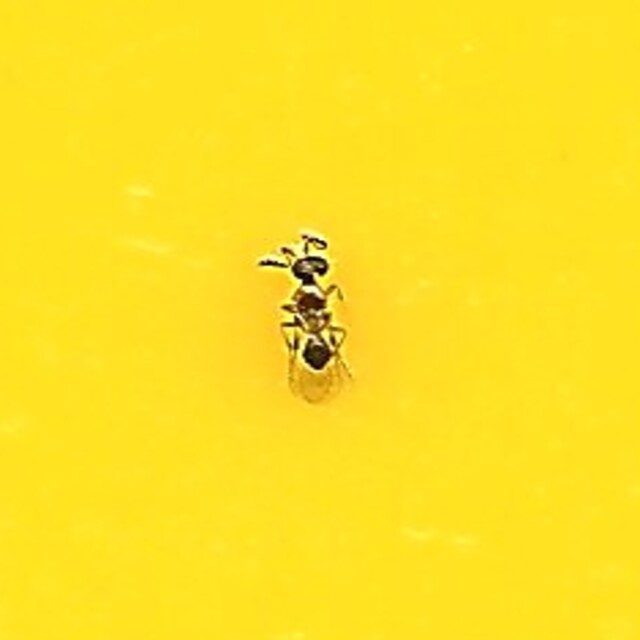Hymenoptera: (272, 227, 368, 413)
